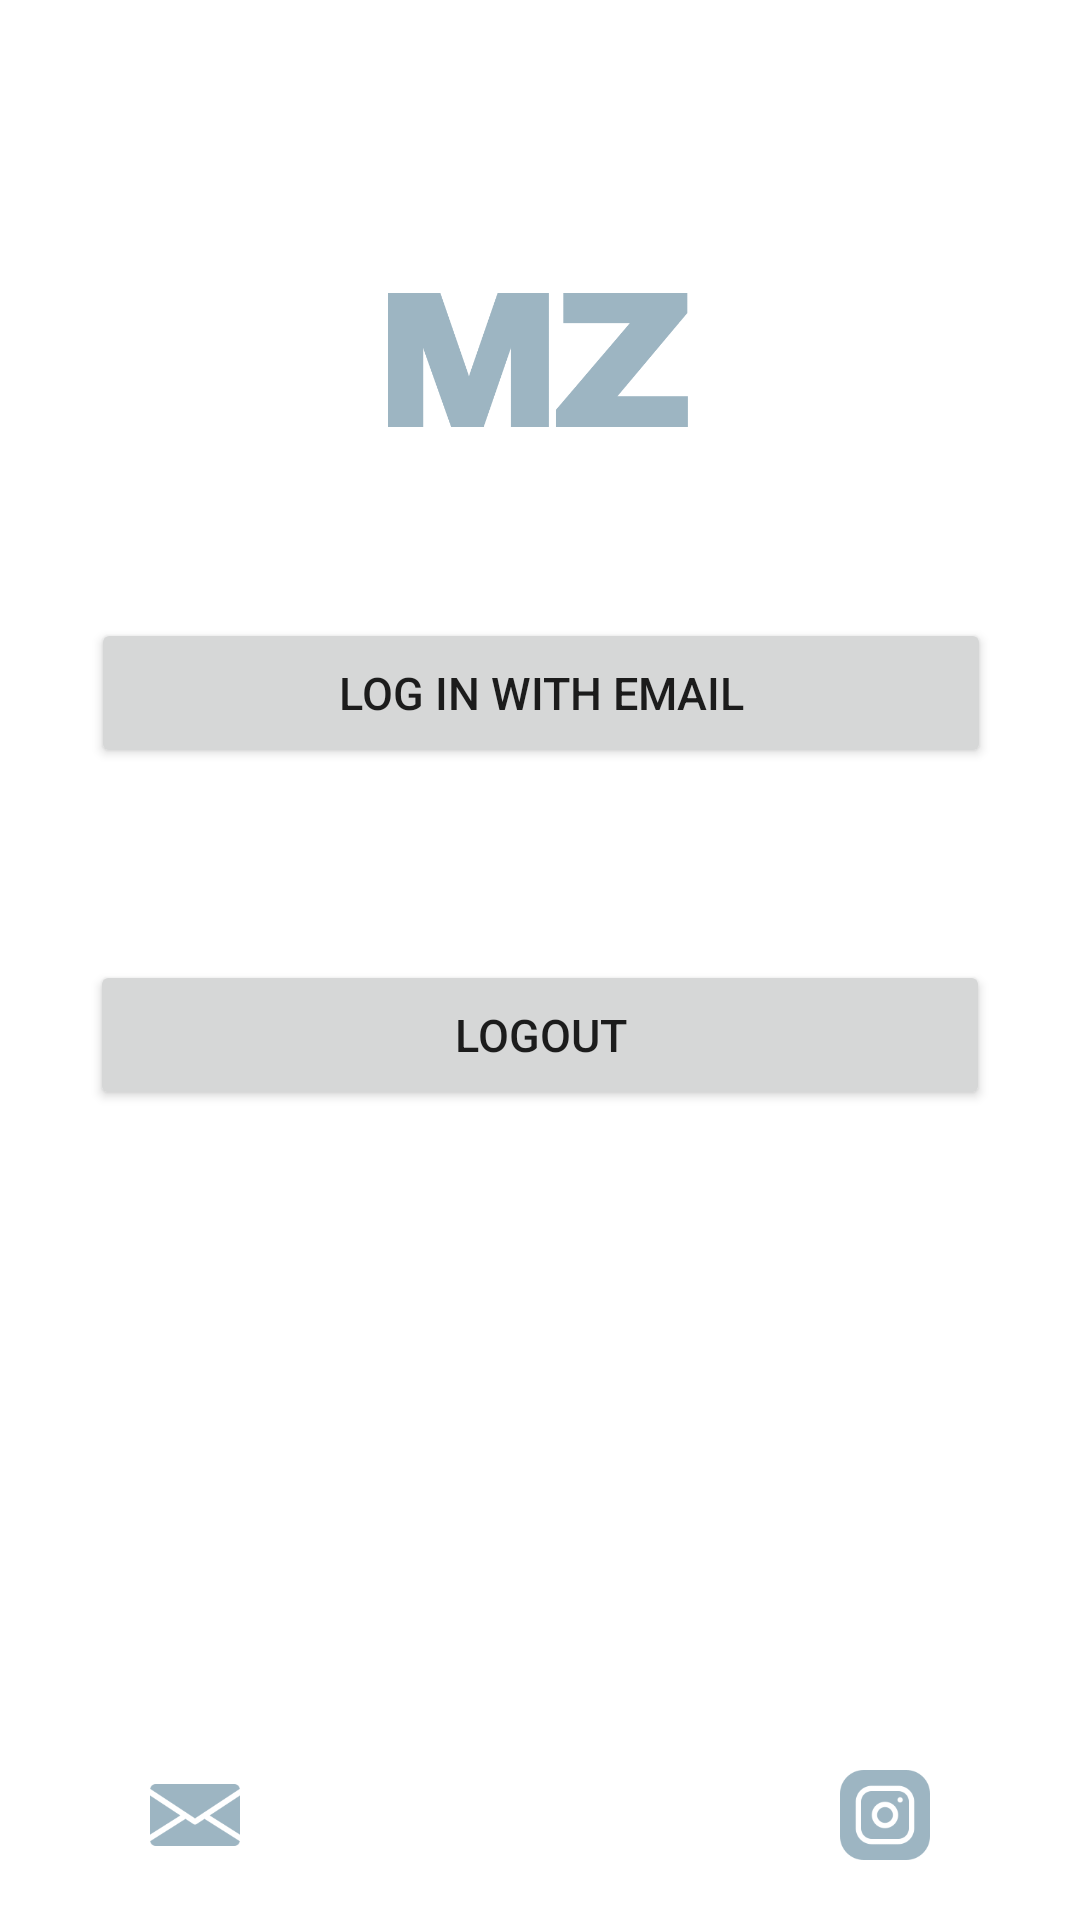

Icons on this 1080px x 1920px Android screen, each with the point to tap as [x,y]:
email: [195,1815]
